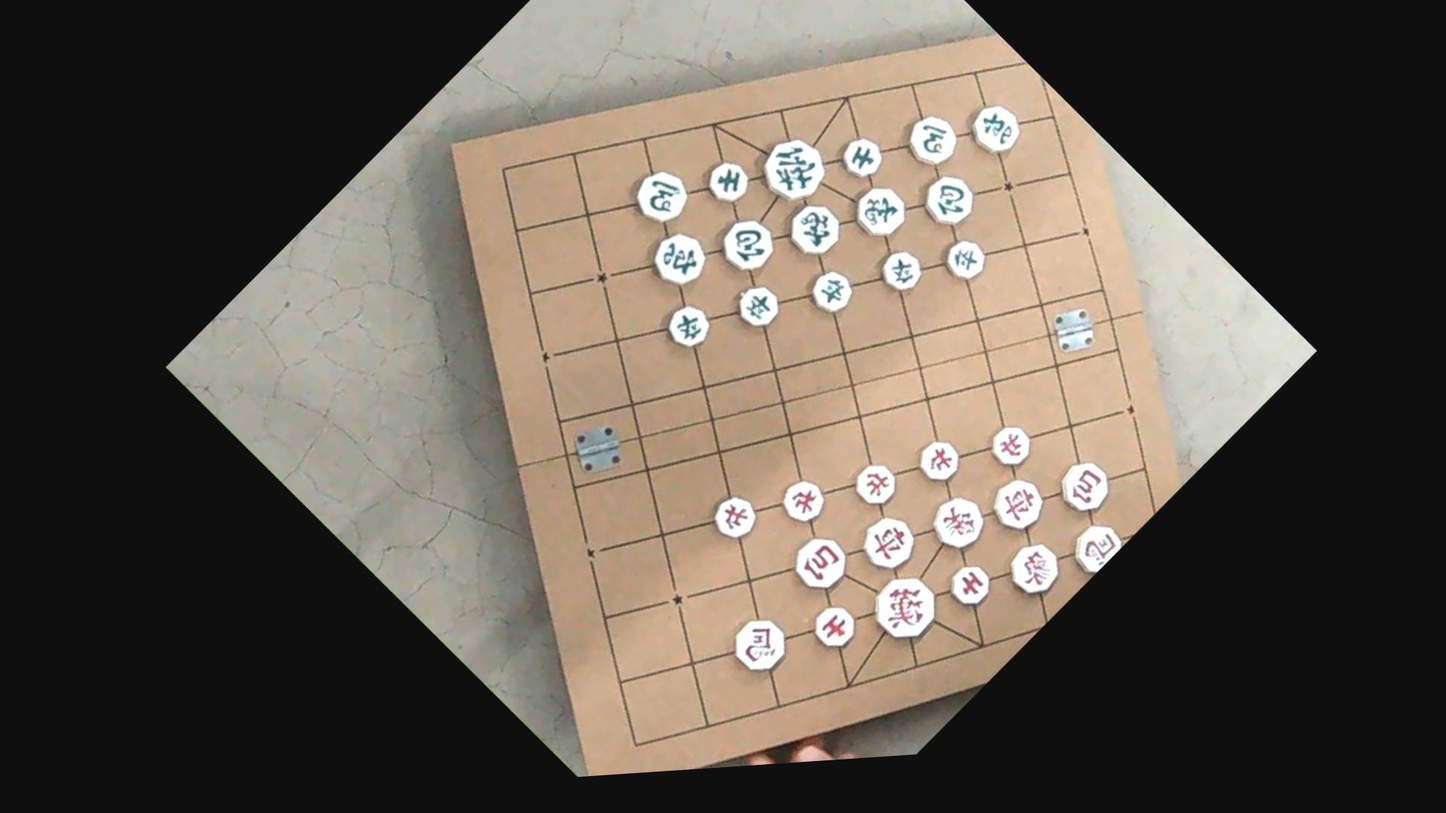cha_green: (642, 221, 715, 294), (962, 95, 1028, 162)
cha_red: (853, 506, 924, 579), (983, 468, 1054, 540)
jol_green: (660, 297, 717, 355), (730, 276, 786, 334), (938, 230, 993, 287), (804, 263, 859, 320), (874, 242, 929, 298)
jol_red: (705, 486, 764, 547), (846, 453, 905, 513), (775, 471, 833, 529), (911, 431, 968, 489), (983, 416, 1039, 473)
ma_green: (625, 159, 697, 232), (898, 105, 966, 175)
ma_red: (723, 607, 796, 681), (1064, 514, 1127, 578)
po_green: (711, 207, 783, 282), (915, 165, 983, 234)
po_red: (785, 526, 856, 598), (1050, 450, 1119, 521)
sa_green: (700, 153, 756, 209), (834, 128, 889, 184)
sa_red: (942, 556, 998, 613), (807, 598, 862, 655)
sang_green: (779, 193, 850, 264), (845, 175, 914, 245)
sang_red: (923, 486, 993, 558), (1001, 534, 1069, 604)
wang_green: (751, 125, 836, 212)
wang_red: (862, 563, 948, 651)
